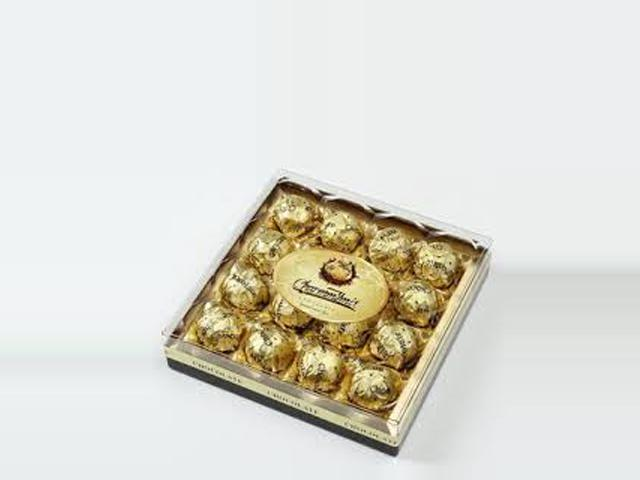chocolate: (157, 169, 494, 462)
